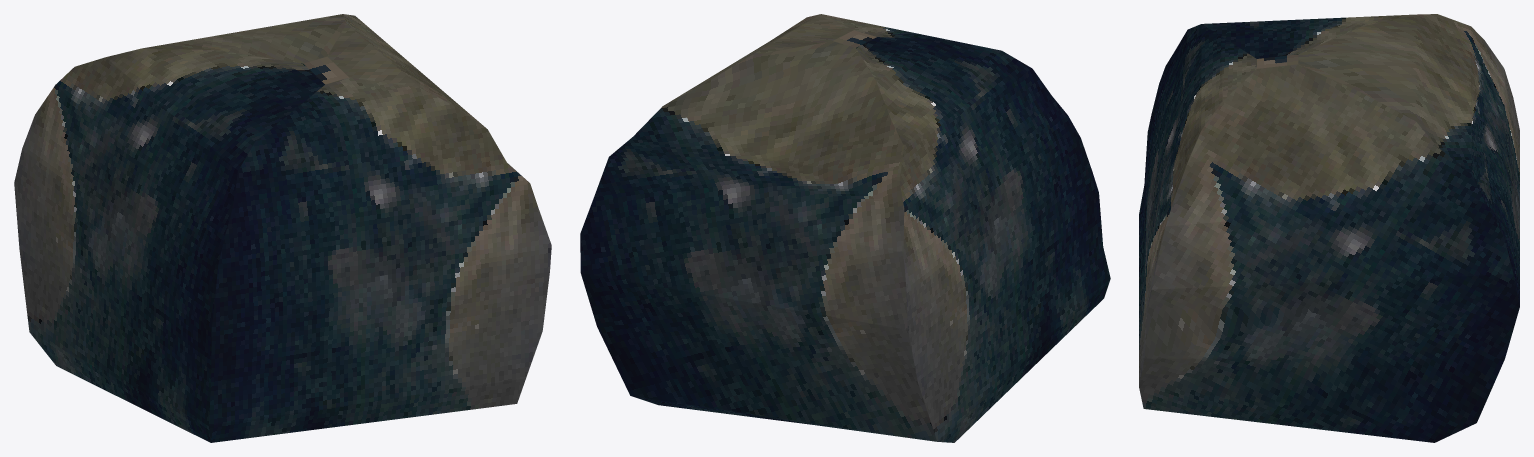
3 renders of one model, left to right at view 1: azimuth 30°, elevation 25°; view 2: azimuth 150°, elevation 25°; view 3: azimuth 270°, elevation 25°, orthographic. The views are drawn at different scales.
Parts seen in each view (by area): view 1: SPLICE_2; view 2: SPLICE_2; view 3: SPLICE_2.
Part boxes in pixels (bbox=[...]): SPLICE_2: bbox=[14, 14, 551, 442]; SPLICE_2: bbox=[580, 14, 1110, 442]; SPLICE_2: bbox=[1139, 14, 1519, 442].
Bounding box in the file's own units: 1.36 × 1.3 × 1.36.
1 material, 1 textured.
